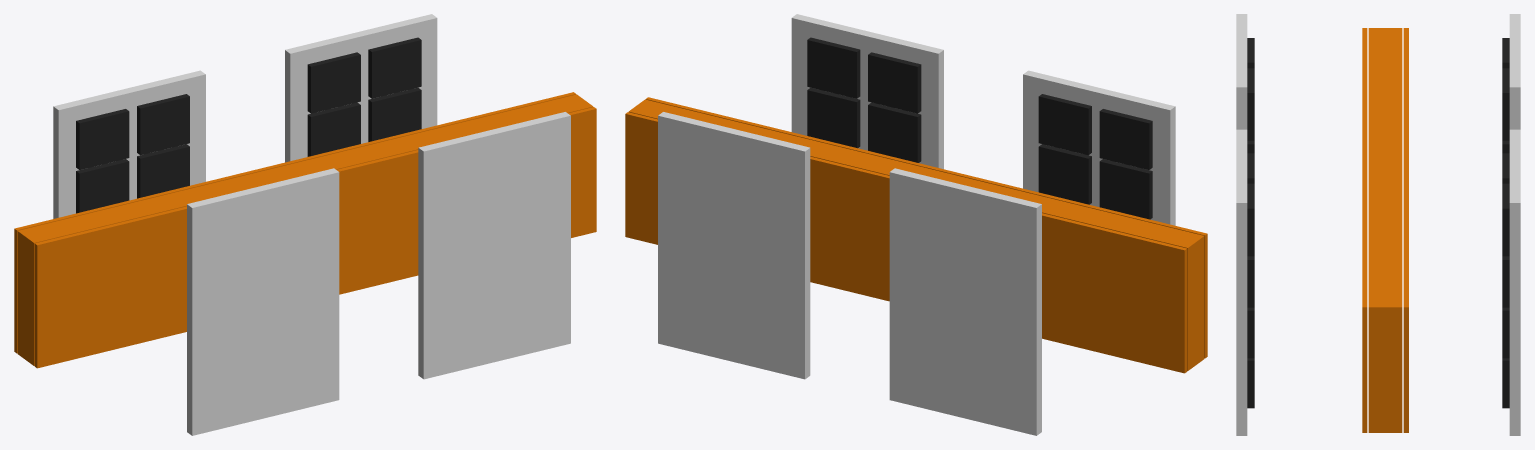
The model's file is vip2.gltf.
3 renders of one model, left to right at view 1: azimuth 30°, elevation 25°; view 2: azimuth 150°, elevation 25°; view 3: azimuth 270°, elevation 25°, orthographic. The views are drawn at different scales.
Parts seen in each view (by area): view 1: Cube.004, Cube.003, Cube.001, Cube.005, Cube.006, Cube, Cube.002; view 2: Cube.006, Cube.005, Cube.002, Cube.004, Cube.003, Cube, Cube.001; view 3: Cube, Cube.003, Cube.005, Cube.002, Cube.001, Cube.004, Cube.006.
Part boxes in pixels (x1,y1,x2,y2): Cube.004: [187, 168, 339, 435]; Cube.003: [418, 112, 570, 379]; Cube.001: [34, 107, 596, 368]; Cube.005: [285, 14, 437, 162]; Cube.006: [53, 70, 205, 218]; Cube: [17, 94, 593, 365]; Cube.002: [14, 92, 576, 353]; Cube.006: [889, 168, 1041, 435]; Cube.005: [658, 112, 810, 379]; Cube.002: [625, 112, 1187, 373]; Cube.004: [1023, 70, 1175, 225]; Cube.003: [791, 14, 943, 169]; Cube: [628, 99, 1204, 370]; Cube.001: [645, 97, 1207, 358]; Cube: [1368, 28, 1402, 432]; Cube.003: [1236, 129, 1254, 435]; Cube.005: [1502, 129, 1520, 435]; Cube.002: [1403, 28, 1408, 432]; Cube.001: [1362, 28, 1367, 432]; Cube.004: [1236, 14, 1254, 153]; Cube.006: [1502, 14, 1520, 153].
Size of the model in its own units: 9.3 by 3.62 by 4.
